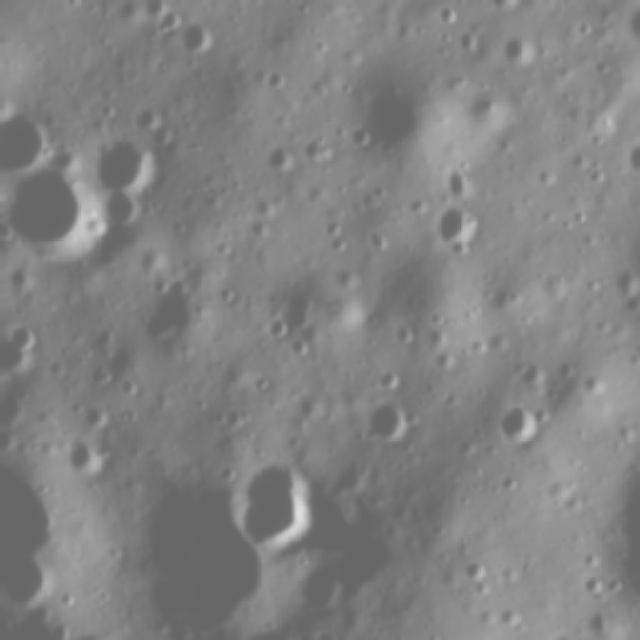crater: (125, 487, 268, 630), (342, 64, 442, 165), (239, 450, 324, 556), (5, 165, 104, 252), (128, 266, 208, 351), (0, 97, 71, 177), (86, 134, 159, 198), (422, 194, 484, 252), (0, 313, 54, 376), (272, 274, 325, 334), (486, 399, 551, 447), (360, 392, 422, 438), (460, 87, 512, 131), (58, 431, 102, 482), (489, 24, 538, 67), (140, 0, 192, 40), (181, 15, 221, 62), (78, 396, 113, 433), (451, 556, 486, 582), (623, 128, 640, 180)
